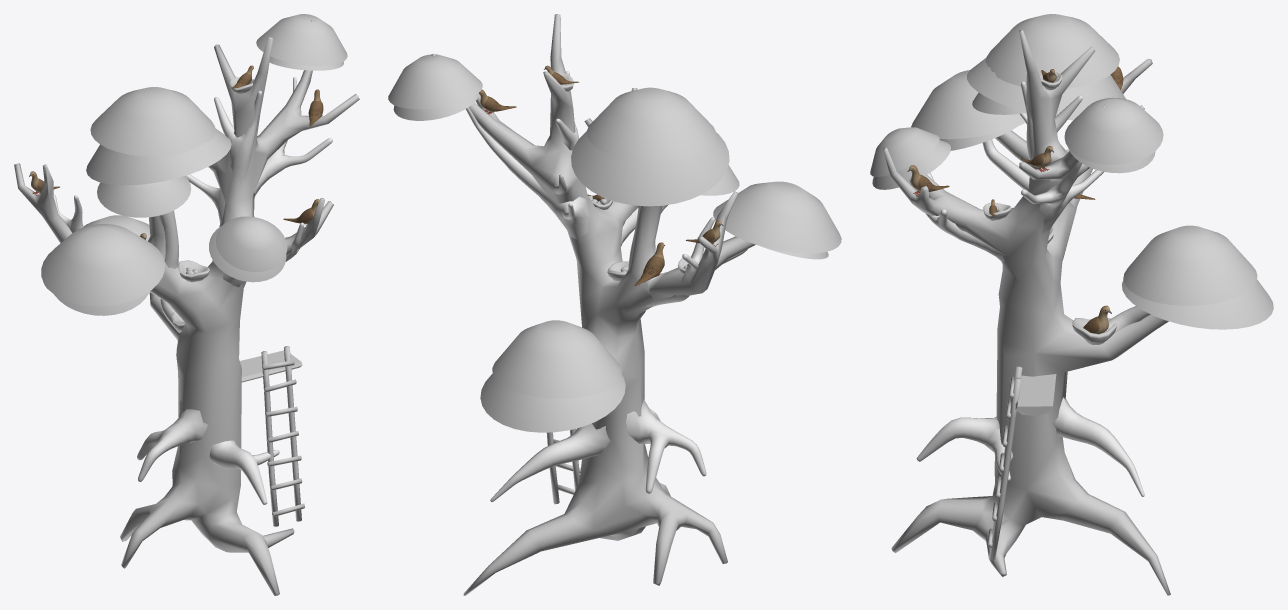
File: TreeFolk8.fbx
3 views of the same model, side by side, from view 1: azimuth 30°, elevation 25°; view 2: azimuth 150°, elevation 25°; view 3: azimuth 270°, elevation 25° (orthographic). The views are drawn at different scales.
Parts seen in each view (by area): view 1: Tree.001, Tree.001.backup, Leaves.008, Leaves.003, Leaves.001, Leaves.006, Leaves.010, Ladder.001, Leaves.002, Leaves.011, Stair.007, Leaves.009 (+2 smaller); view 2: Tree.001, Tree.001.backup, Leaves.004, Leaves.003, Leaves.001, Leaves.008, Leaves.005, Leaves.006, Leaves.007, Ladder.001; view 3: Tree.001, Tree.001.backup, Leaves.004, Leaves.003, Leaves.006, Leaves.008, Leaves.005, Leaves.001, Leaves.010, Ladder.001, Stair.007, Leaves.011 (+4 smaller).
Boxes of the visible parts, left/top/right/bottom form: Tree.001: left=14, top=20, right=359, bottom=595; Tree.001.backup: left=53, top=77, right=332, bottom=504; Leaves.008: left=41, top=224, right=164, bottom=306; Leaves.003: left=90, top=87, right=215, bottom=156; Leaves.001: left=86, top=128, right=231, bottom=185; Leaves.006: left=256, top=14, right=347, bottom=66; Leaves.010: left=216, top=216, right=287, bottom=272; Ladder.001: left=261, top=346, right=304, bottom=526; Leaves.002: left=97, top=176, right=191, bottom=217; Leaves.011: left=209, top=226, right=286, bottom=282; Stair.007: left=239, top=350, right=302, bottom=382; Leaves.009: left=54, top=291, right=149, bottom=315; Tree.001: left=431, top=14, right=755, bottom=595; Tree.001.backup: left=466, top=71, right=747, bottom=501; Leaves.004: left=492, top=320, right=621, bottom=398; Leaves.003: left=587, top=87, right=716, bottom=161; Leaves.001: left=571, top=131, right=729, bottom=206; Leaves.008: left=713, top=181, right=841, bottom=253; Leaves.005: left=480, top=374, right=625, bottom=432; Leaves.006: left=388, top=54, right=482, bottom=109; Leaves.007: left=393, top=93, right=478, bottom=120; Ladder.001: left=546, top=428, right=580, bottom=504; Tree.001: left=883, top=29, right=1170, bottom=595; Tree.001.backup: left=909, top=81, right=1150, bottom=496; Leaves.004: left=1123, top=225, right=1257, bottom=305; Leaves.003: left=985, top=14, right=1119, bottom=88; Leaves.006: left=1064, top=97, right=1163, bottom=164; Leaves.008: left=911, top=70, right=1026, bottom=139; Leaves.005: left=1122, top=279, right=1273, bottom=329; Leaves.001: left=967, top=57, right=1125, bottom=120; Leaves.010: left=870, top=127, right=939, bottom=176; Ladder.001: left=987, top=366, right=1022, bottom=560; Stair.007: left=1015, top=374, right=1056, bottom=415; Leaves.011: left=872, top=140, right=950, bottom=189.
Size of what is drawn, in the model's own units: 712 by 1081 by 788.
